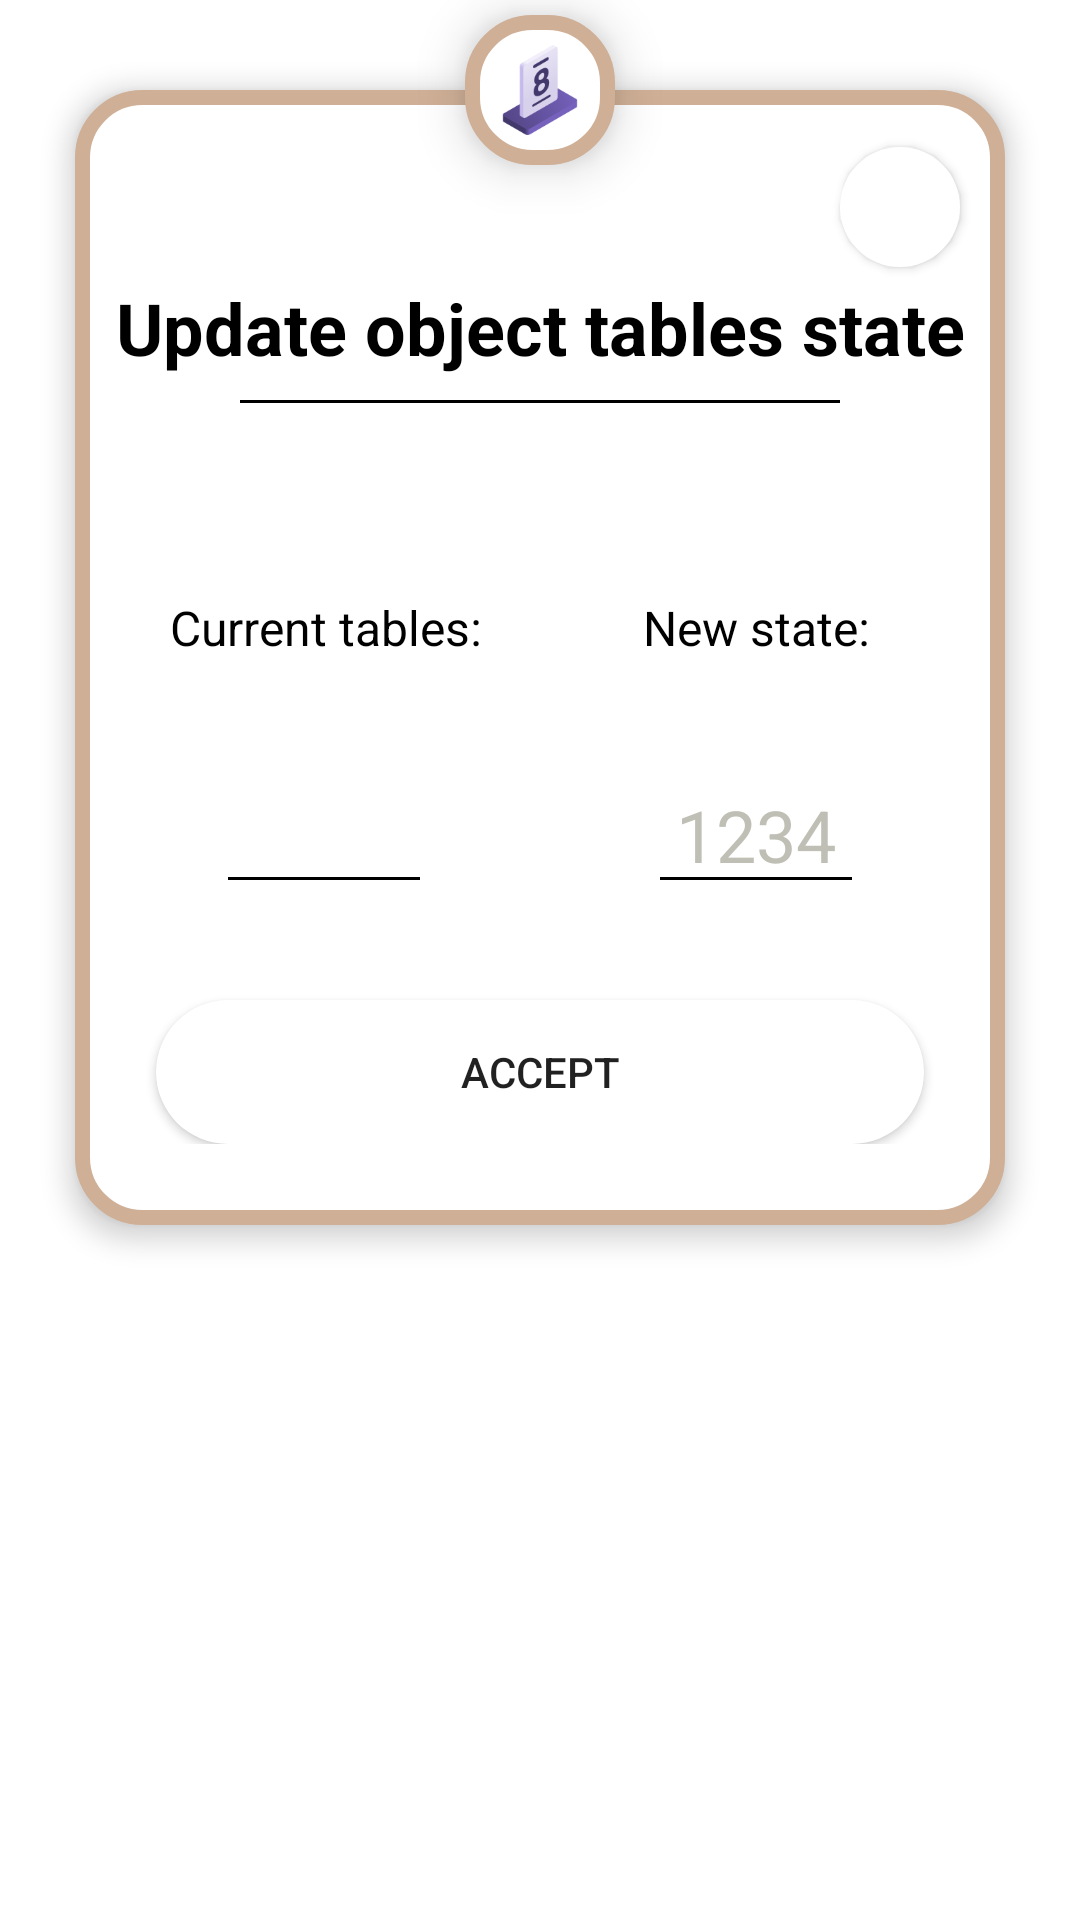

Where to tap for icons on this 1080px x 1920px app screen, as point (x, y):
tables number: point (540, 90)
